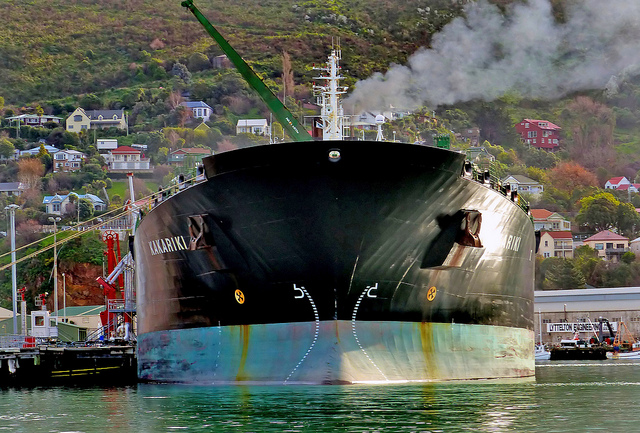tanker: (133, 42, 547, 380)
